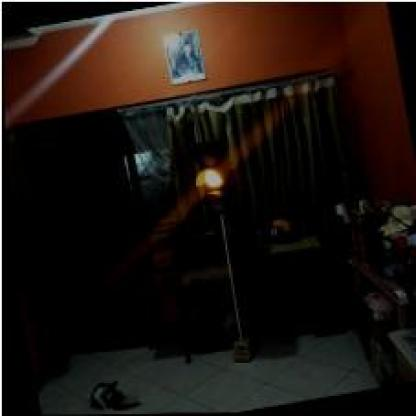yellow: (187, 140, 231, 216)
